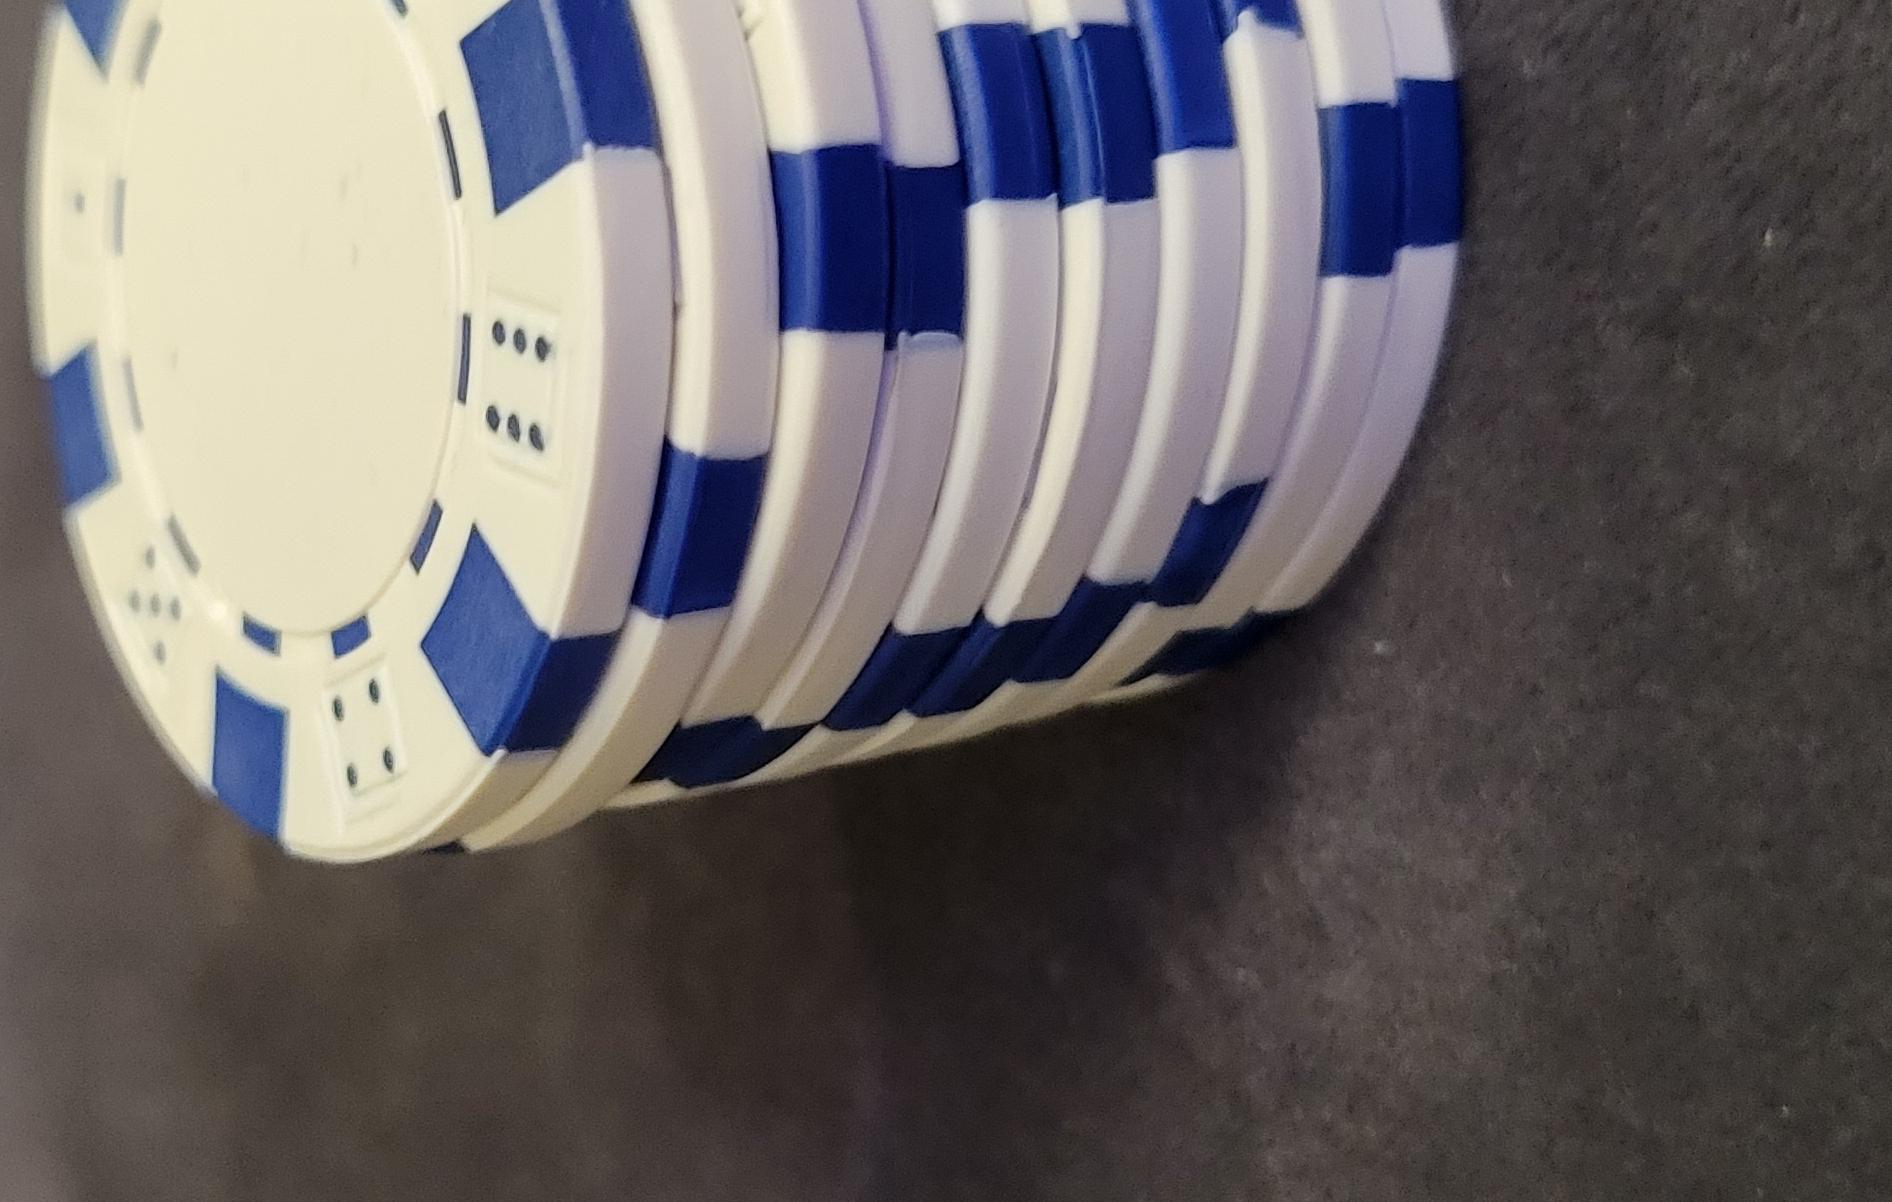Chip: (1, 334, 1060, 1202)
